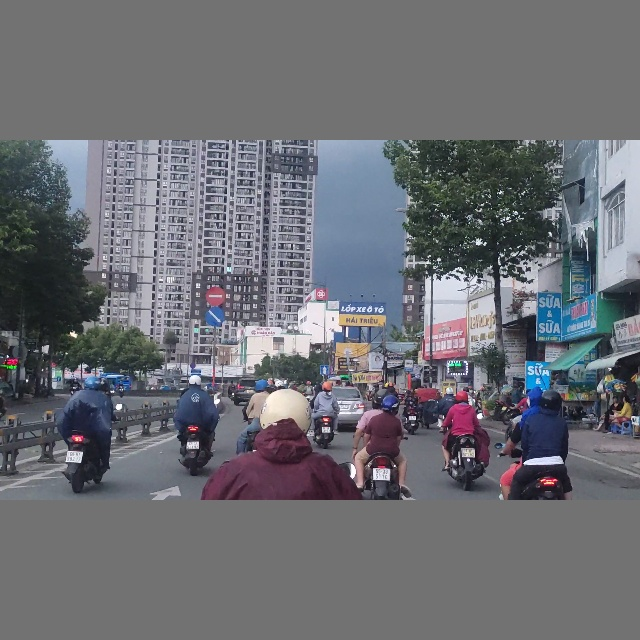I.407a: (320, 365, 330, 374)
I.434a: (404, 359, 413, 372)
P.102: (206, 287, 226, 306)
R.302a: (204, 306, 225, 327)
